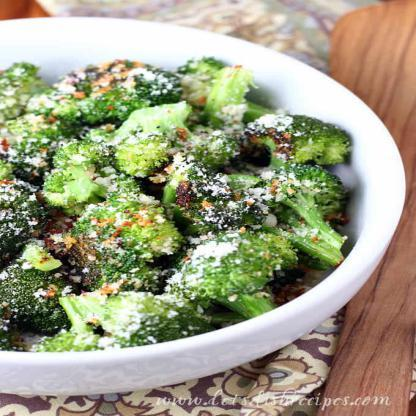broccoli: (0, 55, 355, 356)
